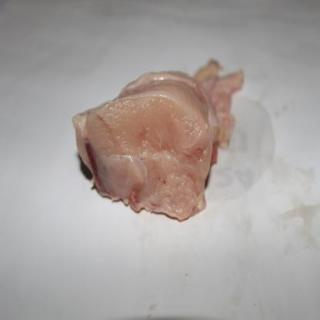Ayam: (72, 63, 245, 224)
